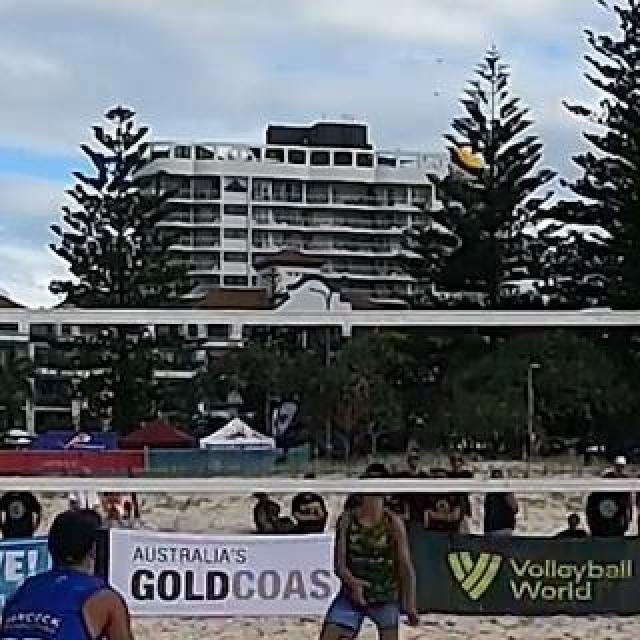volleyball: (449, 140, 481, 172)
